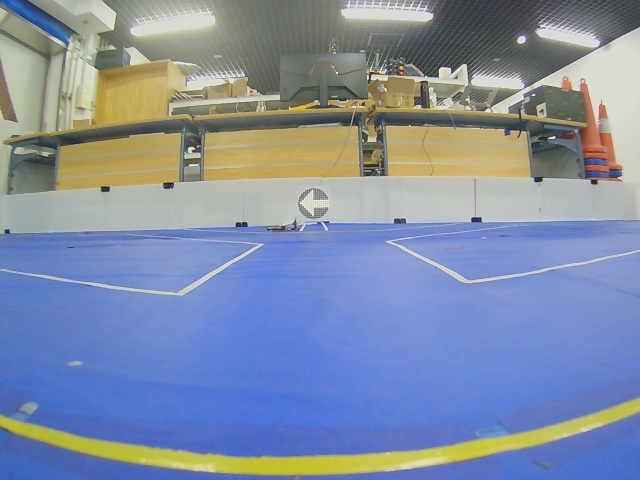left_yellow: (297, 187, 330, 221)
